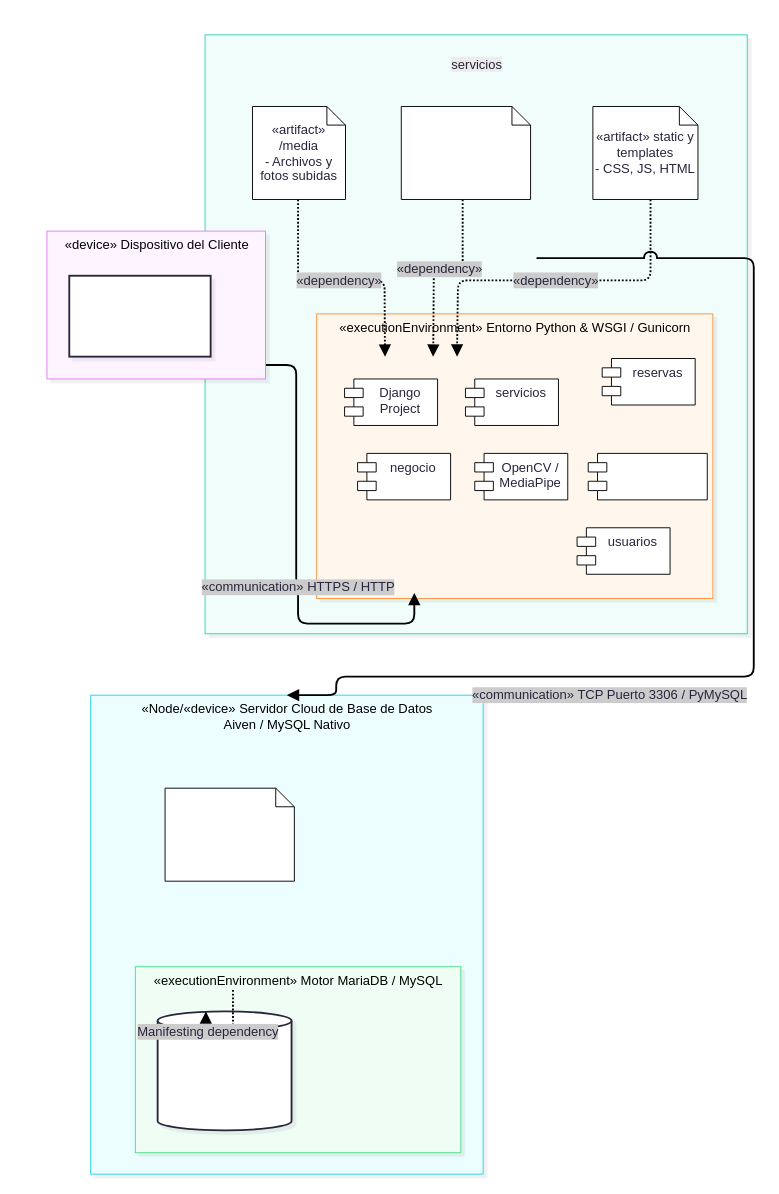
Image size: 779x1194. Some labels were removed from this diagram. The centre of each missing label's shape, as x and y in pixels:
"analisis_facial" goes at [647,476].
"«artifact» .env / requirements.txt" goes at [465,152].
"«artifact» barbershopmya.sql Exportado de XAMPP" goes at [229,834].
"«component» Base de Datos barbershopmya" goes at [226,1072].
"«component» Navegador Web / UI" goes at [141,317].
